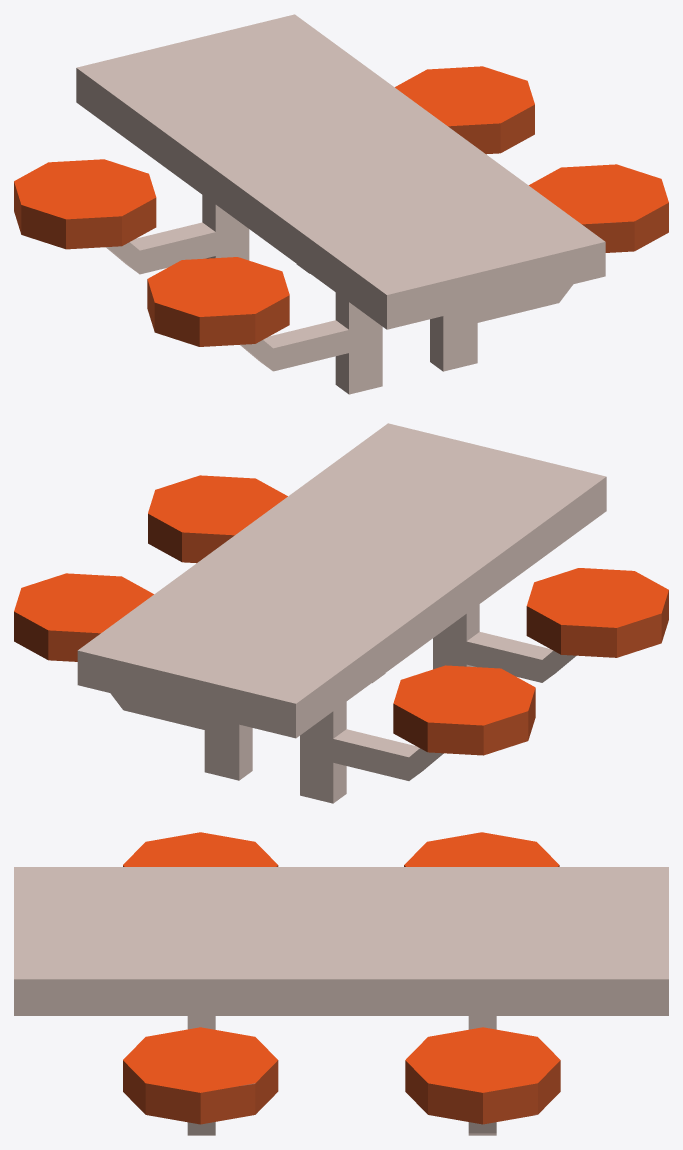
Rendered from cafeteriaTable.fbx.
3 views of the same model, one above another, from view 1: azimuth 30°, elevation 25°; view 2: azimuth 150°, elevation 25°; view 3: azimuth 270°, elevation 25° (orthographic). The views are drawn at different scales.
Visible parts, largest first — view 1: pCube2; view 2: pCube2; view 3: pCube2.
Boxes of the visible parts, x1,y1,x2,y2 form: pCube2: (14, 14, 668, 394); pCube2: (14, 423, 668, 803); pCube2: (14, 832, 668, 1135).
Size of the model in its own units: 188 by 60.33 by 199.
